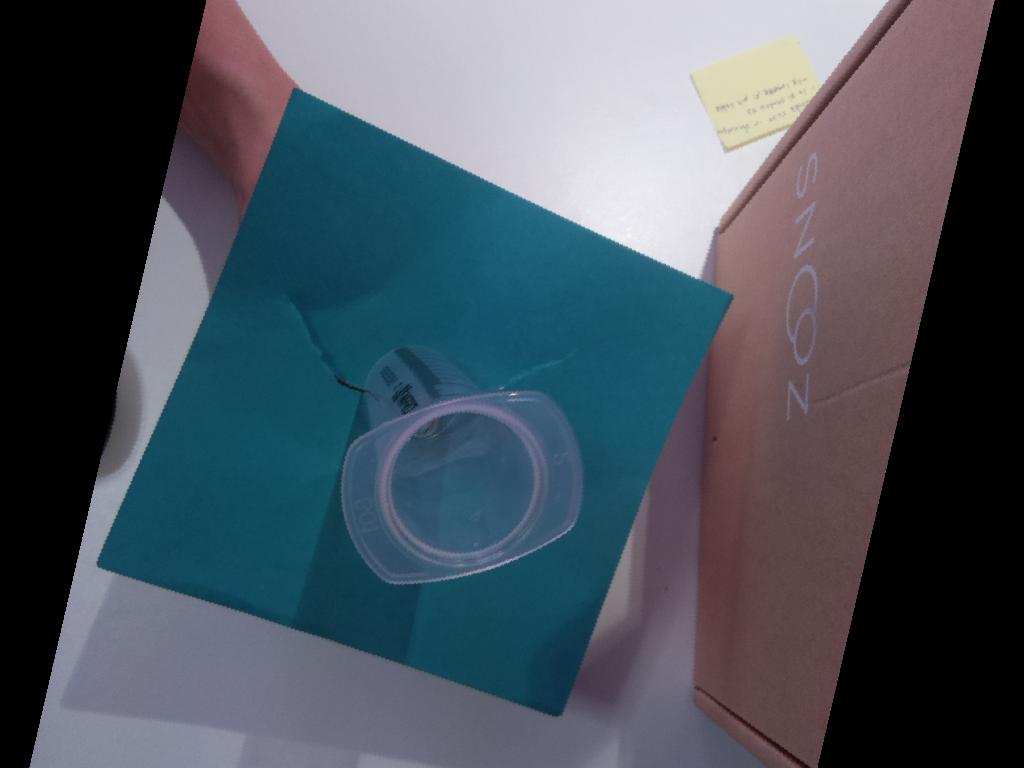clean: (341, 390, 584, 585)
